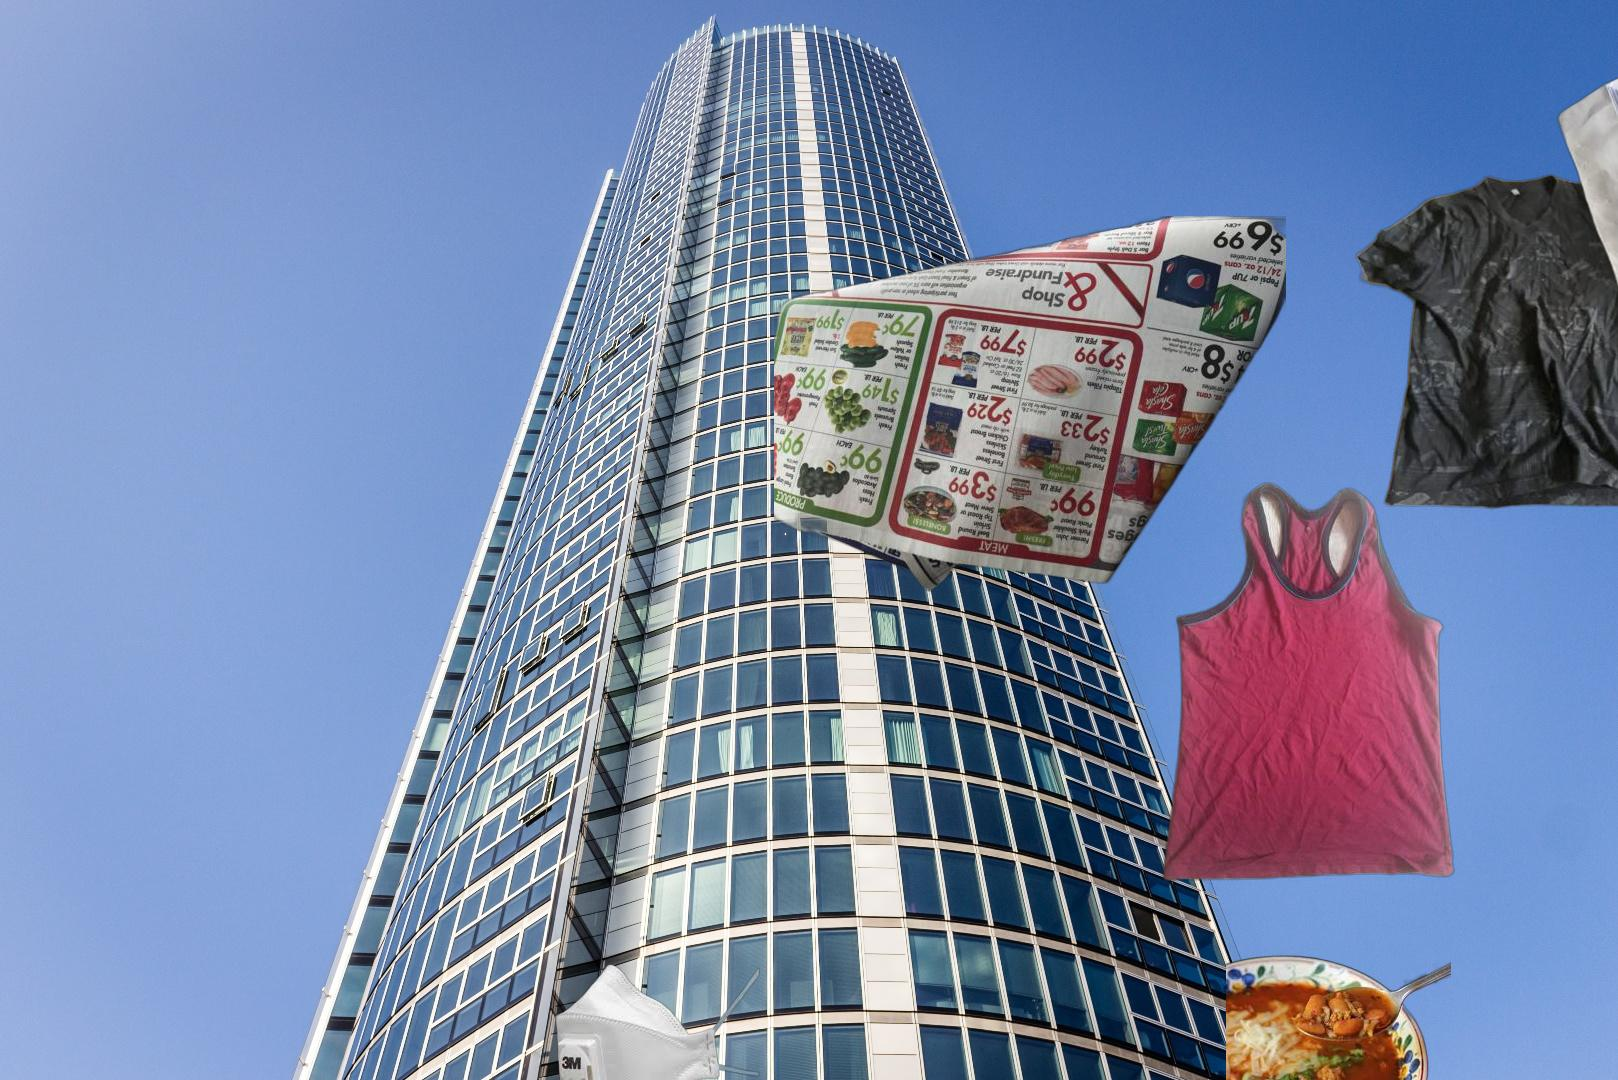biological: (1226, 953, 1451, 1080)
clothes: (1159, 479, 1458, 886), (1353, 171, 1618, 513)
paper: (773, 216, 1285, 594), (1554, 57, 1618, 435)
trash: (552, 962, 761, 1080)
